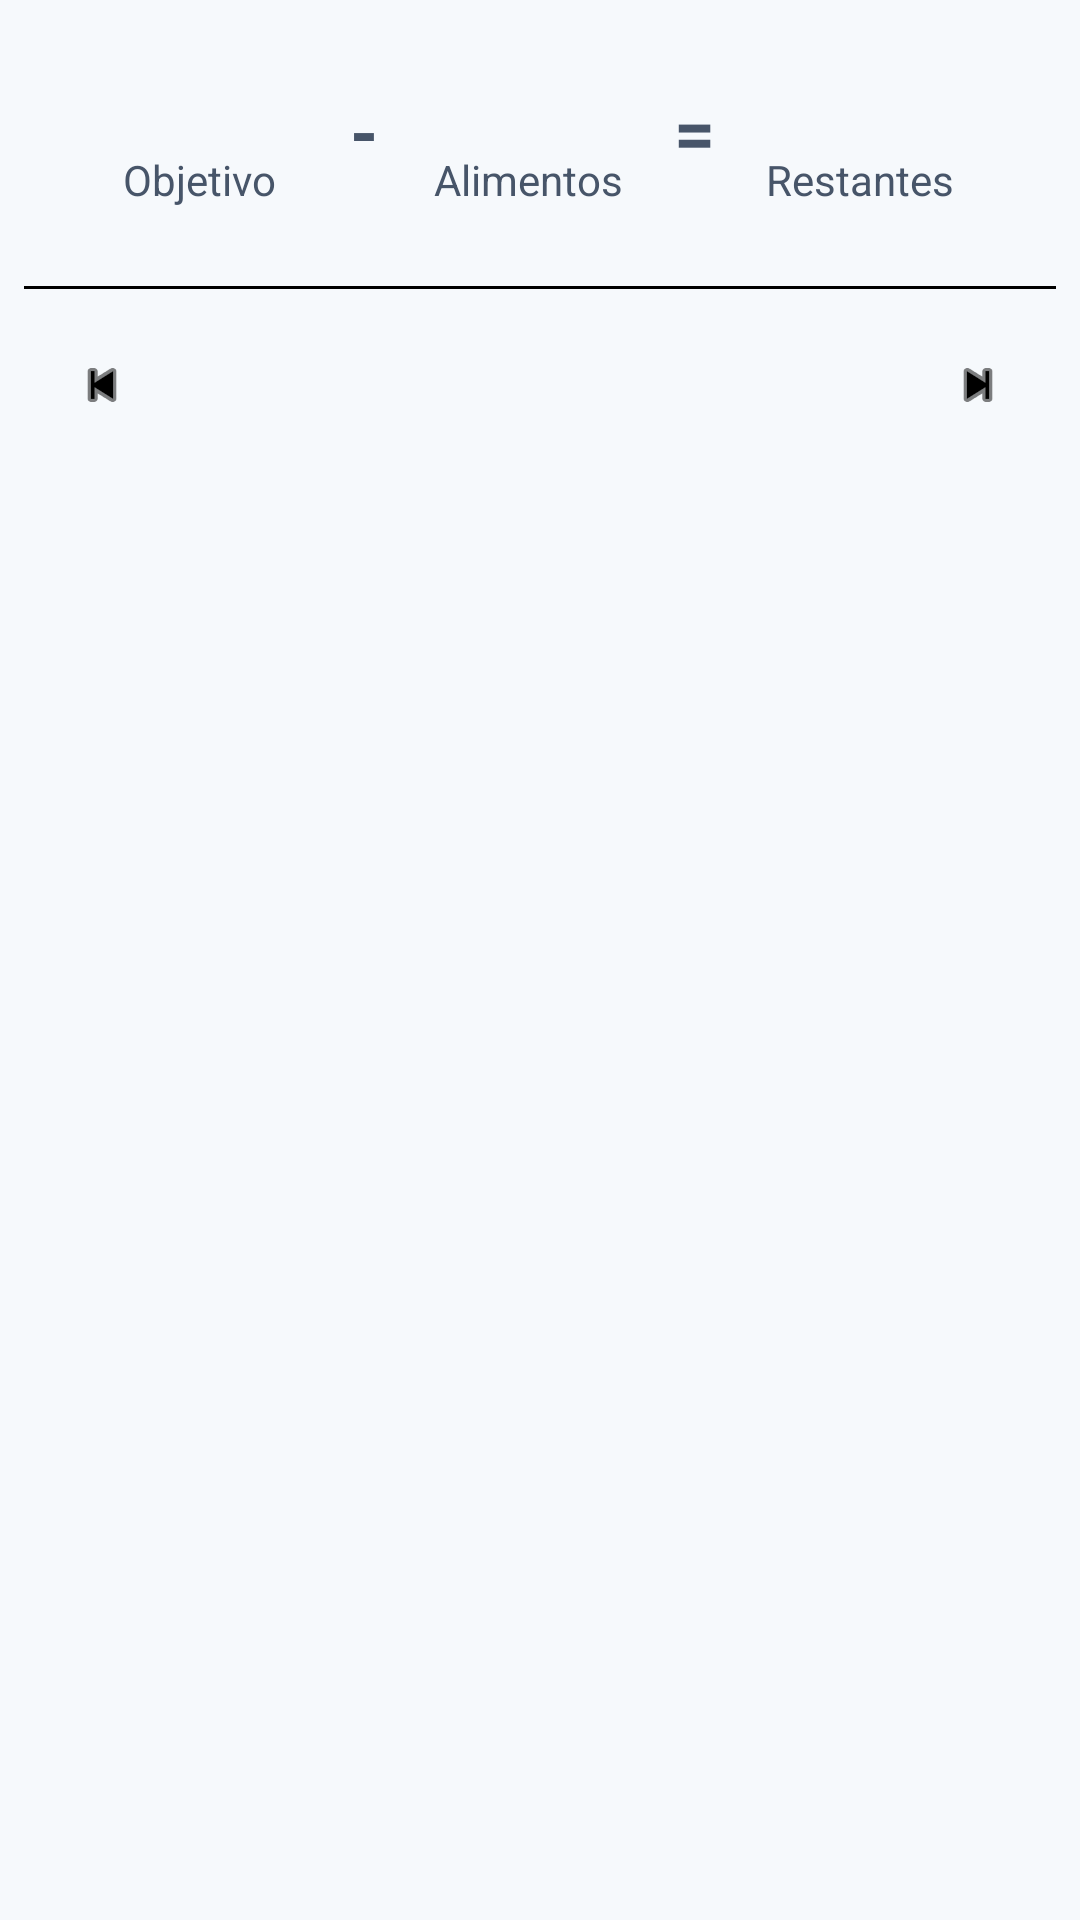

Where to tap for icons on this 1080×1920 app screen, as [x,y]:
next: [978,385]
previous: [102,385]
